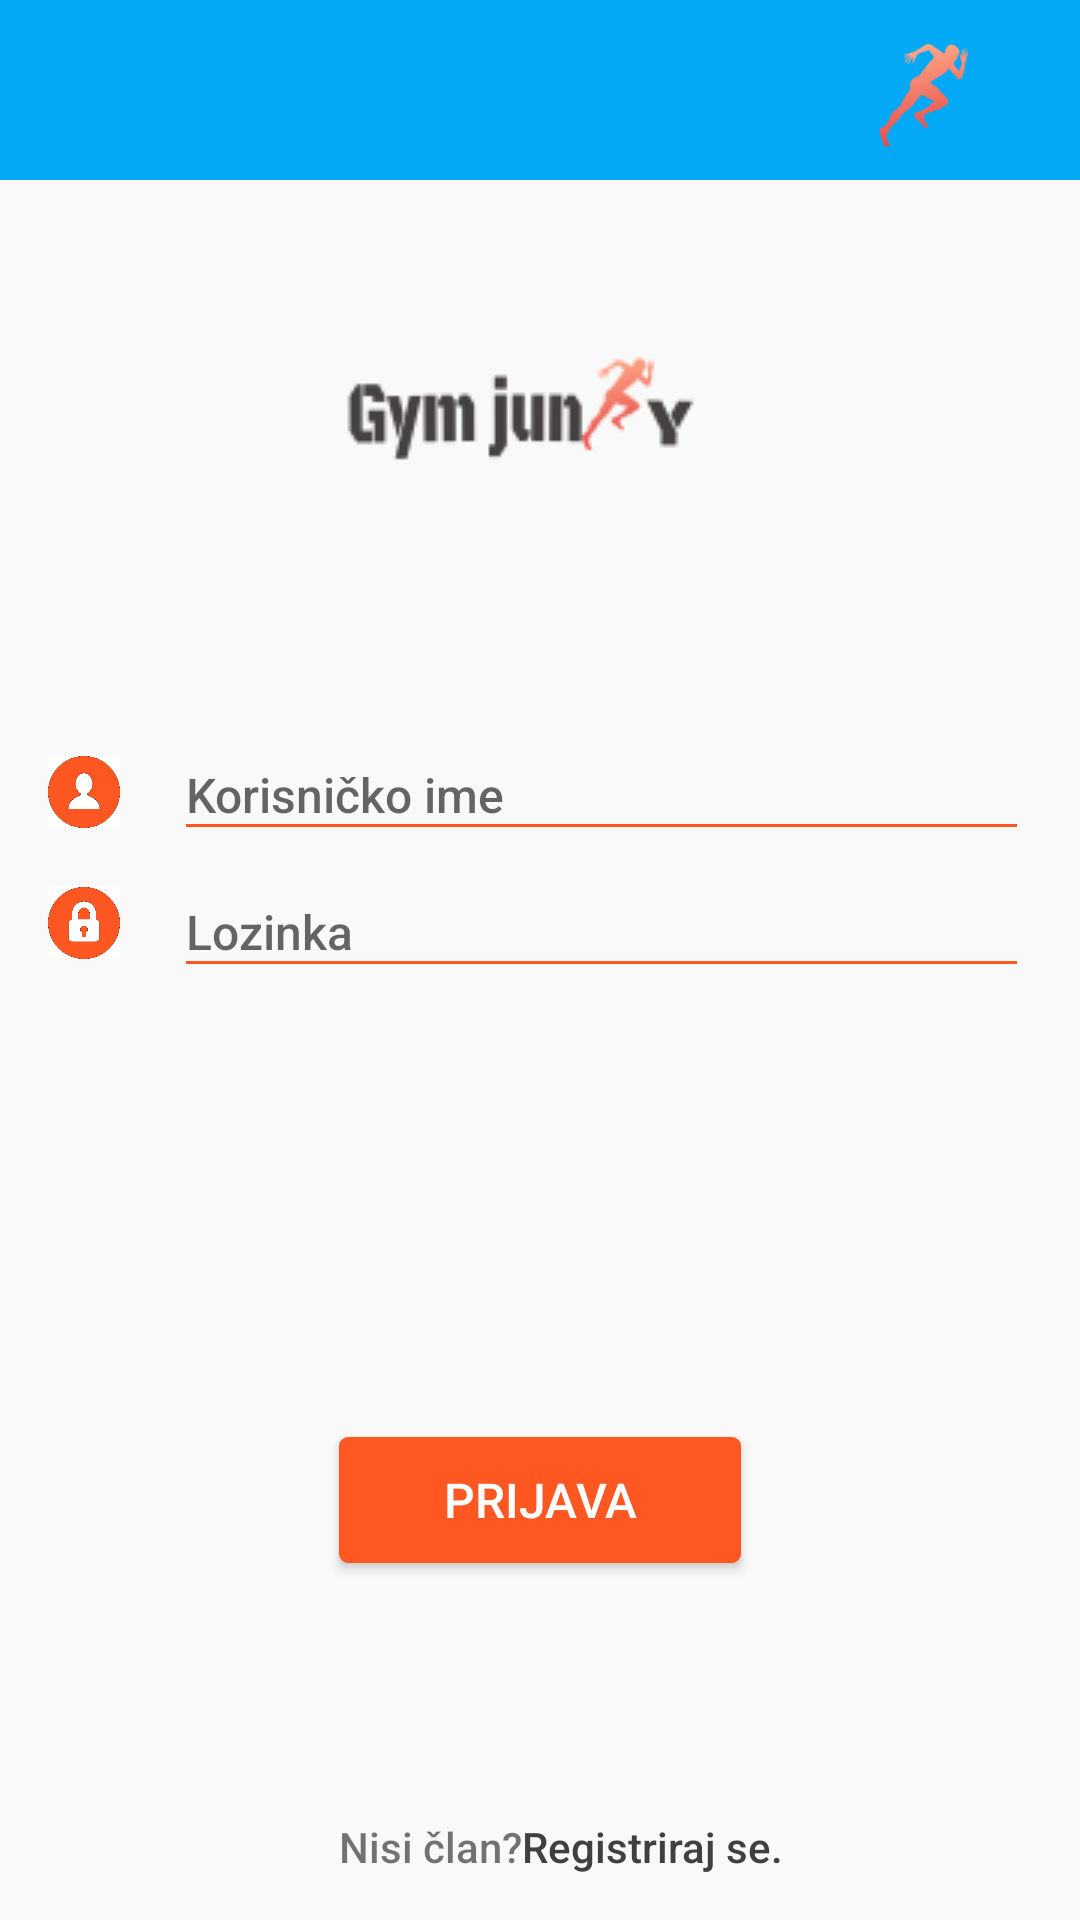

Screen size 1080px×1920px. Icon name, then its box in pixels as (x1, y1, x2, y2):
password: (48, 887, 120, 959)
user: (48, 756, 120, 828)
